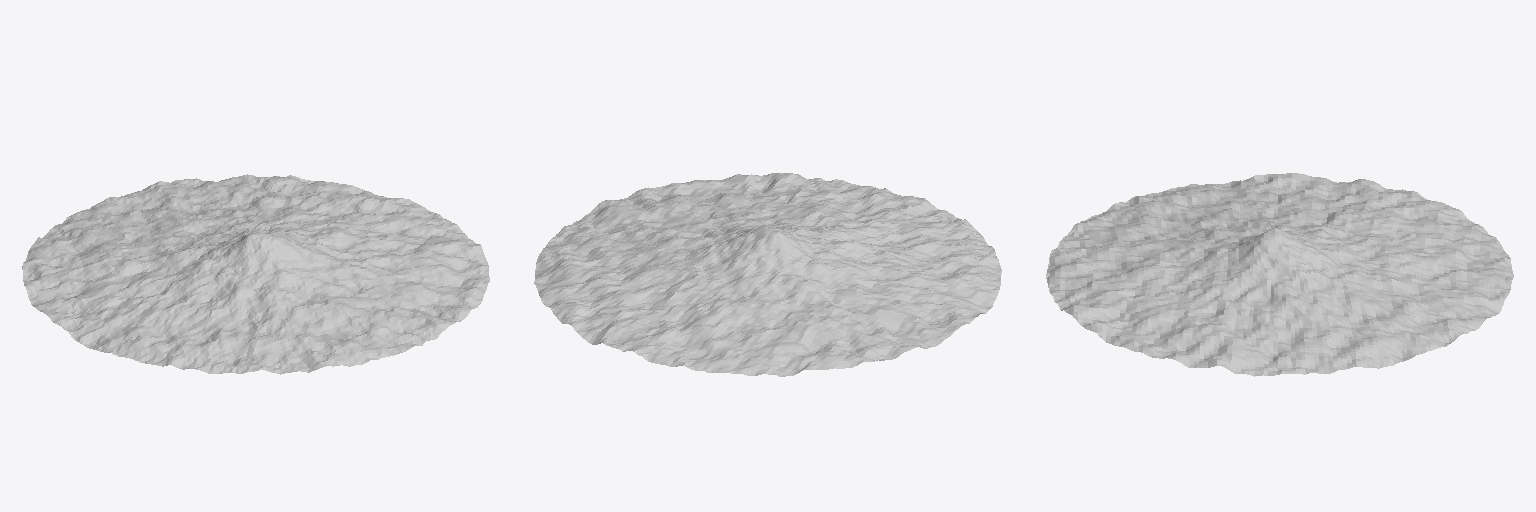
The model's file is sanctuary-background.obj.
The picture shows the model from 3 angles: view 1: azimuth 30°, elevation 25°; view 2: azimuth 150°, elevation 25°; view 3: azimuth 270°, elevation 25°; orthographic projection.
Visible parts, largest first — view 1: Plane_Plane.001; view 2: Plane_Plane.001; view 3: Plane_Plane.001.
Boxes of the visible parts, box(x1,y1,x2,y2) form: Plane_Plane.001: box(22, 174, 489, 374); Plane_Plane.001: box(534, 173, 1001, 376); Plane_Plane.001: box(1046, 173, 1513, 376).
Bounding box in the file's own units: 42.51 × 4.8 × 42.51.